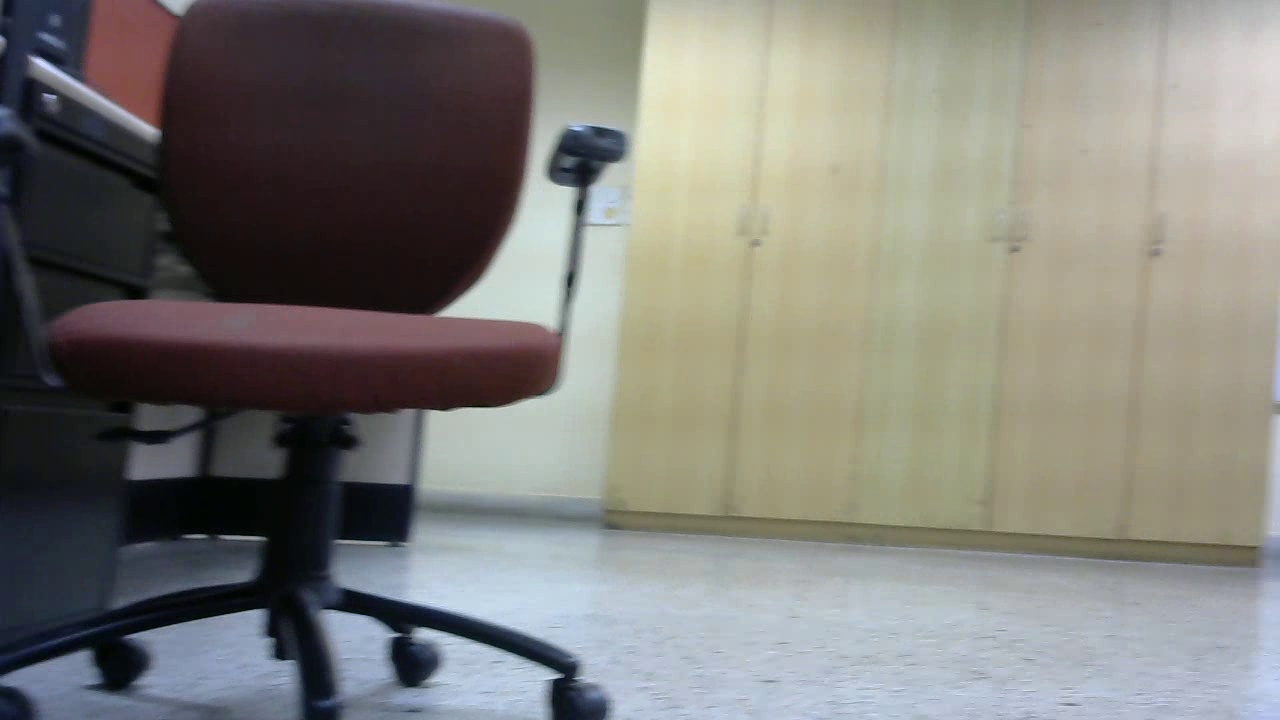chair: (2, 5, 633, 720)
